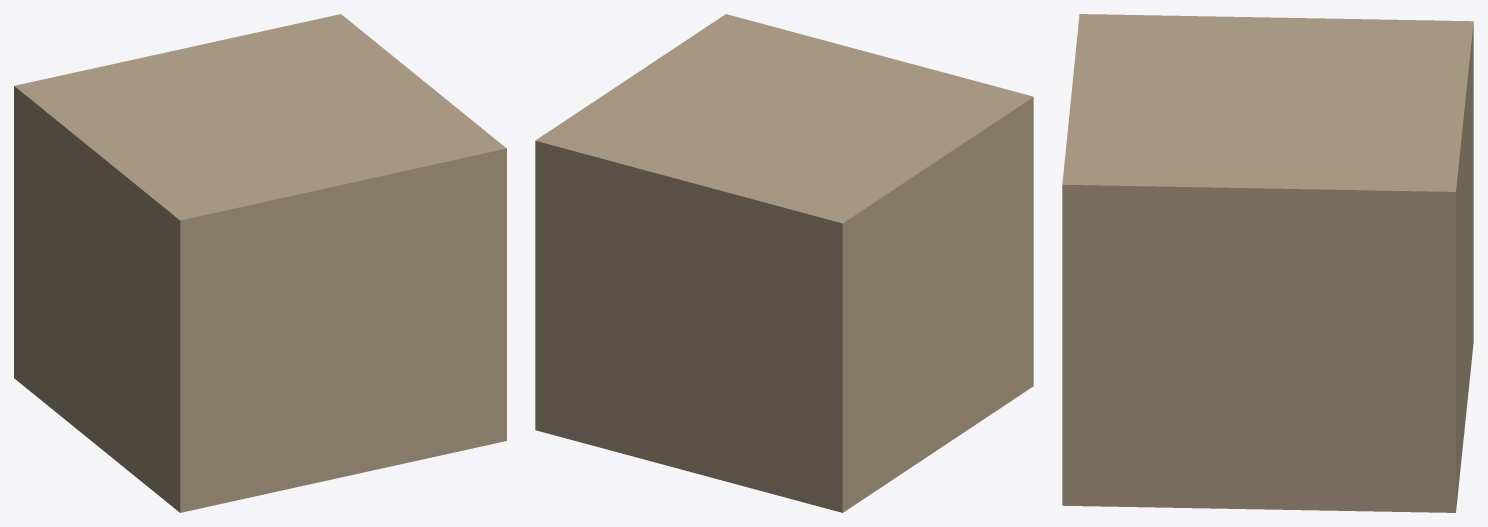
Rendered from bld_106796782.dae.
The picture shows the model from 3 angles, left to right: view 1: azimuth 30°, elevation 25°; view 2: azimuth 150°, elevation 25°; view 3: azimuth 270°, elevation 25°; orthographic projection. The views are drawn at different scales.
Visible parts, largest first — view 1: bld_106796782; view 2: bld_106796782; view 3: bld_106796782.
Part boxes in pixels (x1,y1,x2,y2): bld_106796782: [14, 14, 506, 512]; bld_106796782: [535, 14, 1033, 512]; bld_106796782: [1062, 14, 1473, 512].
Size of the model in its own units: 9.51 by 9.29 by 8.
